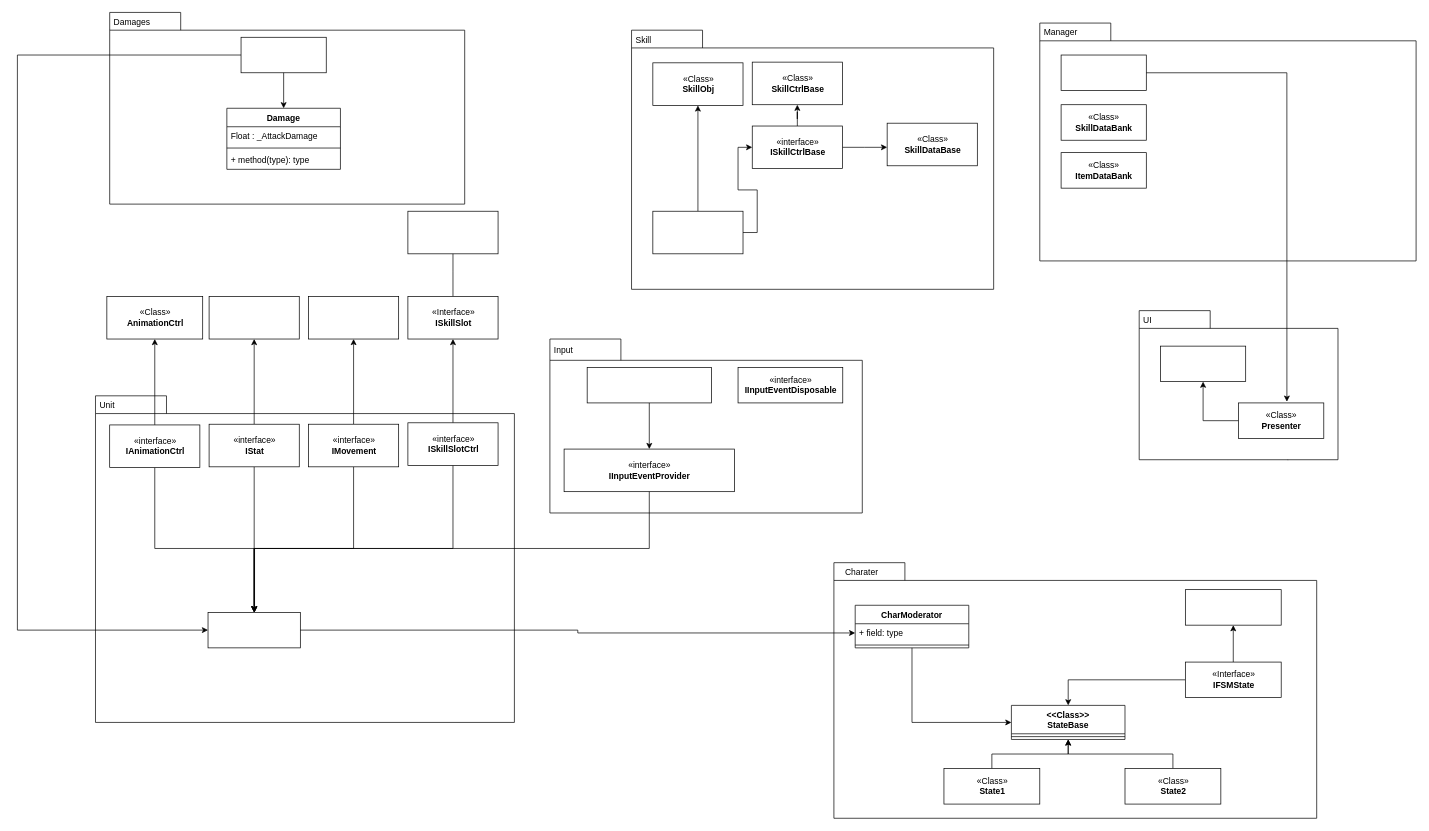
Image size: 1429x831. Some labels were removed from this diagram. Here are the shapes that lost their labels. From the top down, the box of each, then its label:
(240, 37, 326, 73): «interface» IDamageApplicable
(1060, 54, 1146, 91): «Class» GameManager
(407, 211, 498, 254): «Class» SkillSlot
(652, 211, 743, 254): «interface» ISkillObj
(208, 296, 299, 339): «Class» Stat
(308, 296, 399, 339): «Class» Movement
(1160, 345, 1246, 382): «Class» UIView
(586, 367, 711, 403): «Class» InputEventProvider
(1185, 589, 1281, 625): «Class» FSM
(207, 612, 300, 648): «(Interface)» IUnitModerator
